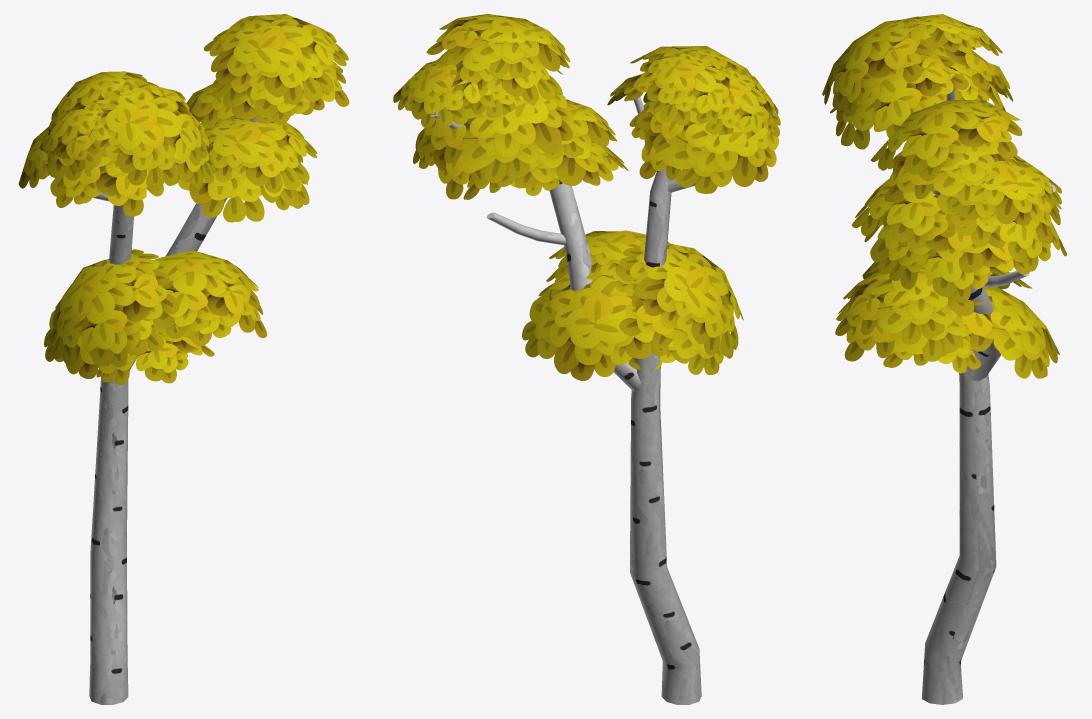
The model's file is Birch_5.gltf.
The picture shows the model from 3 angles, left to right: view 1: azimuth 30°, elevation 25°; view 2: azimuth 150°, elevation 25°; view 3: azimuth 270°, elevation 25°; orthographic projection. The views are drawn at different scales.
Visible parts, largest first — view 1: Birch_2; view 2: Birch_2; view 3: Birch_2.
Part boxes in pixels (bbox=[...]): Birch_2: bbox=[18, 14, 349, 704]; Birch_2: bbox=[393, 14, 780, 704]; Birch_2: bbox=[822, 14, 1066, 704].
Bounding box in the file's own units: 5.11 × 8.94 × 3.06.
2 materials, 2 textured.
